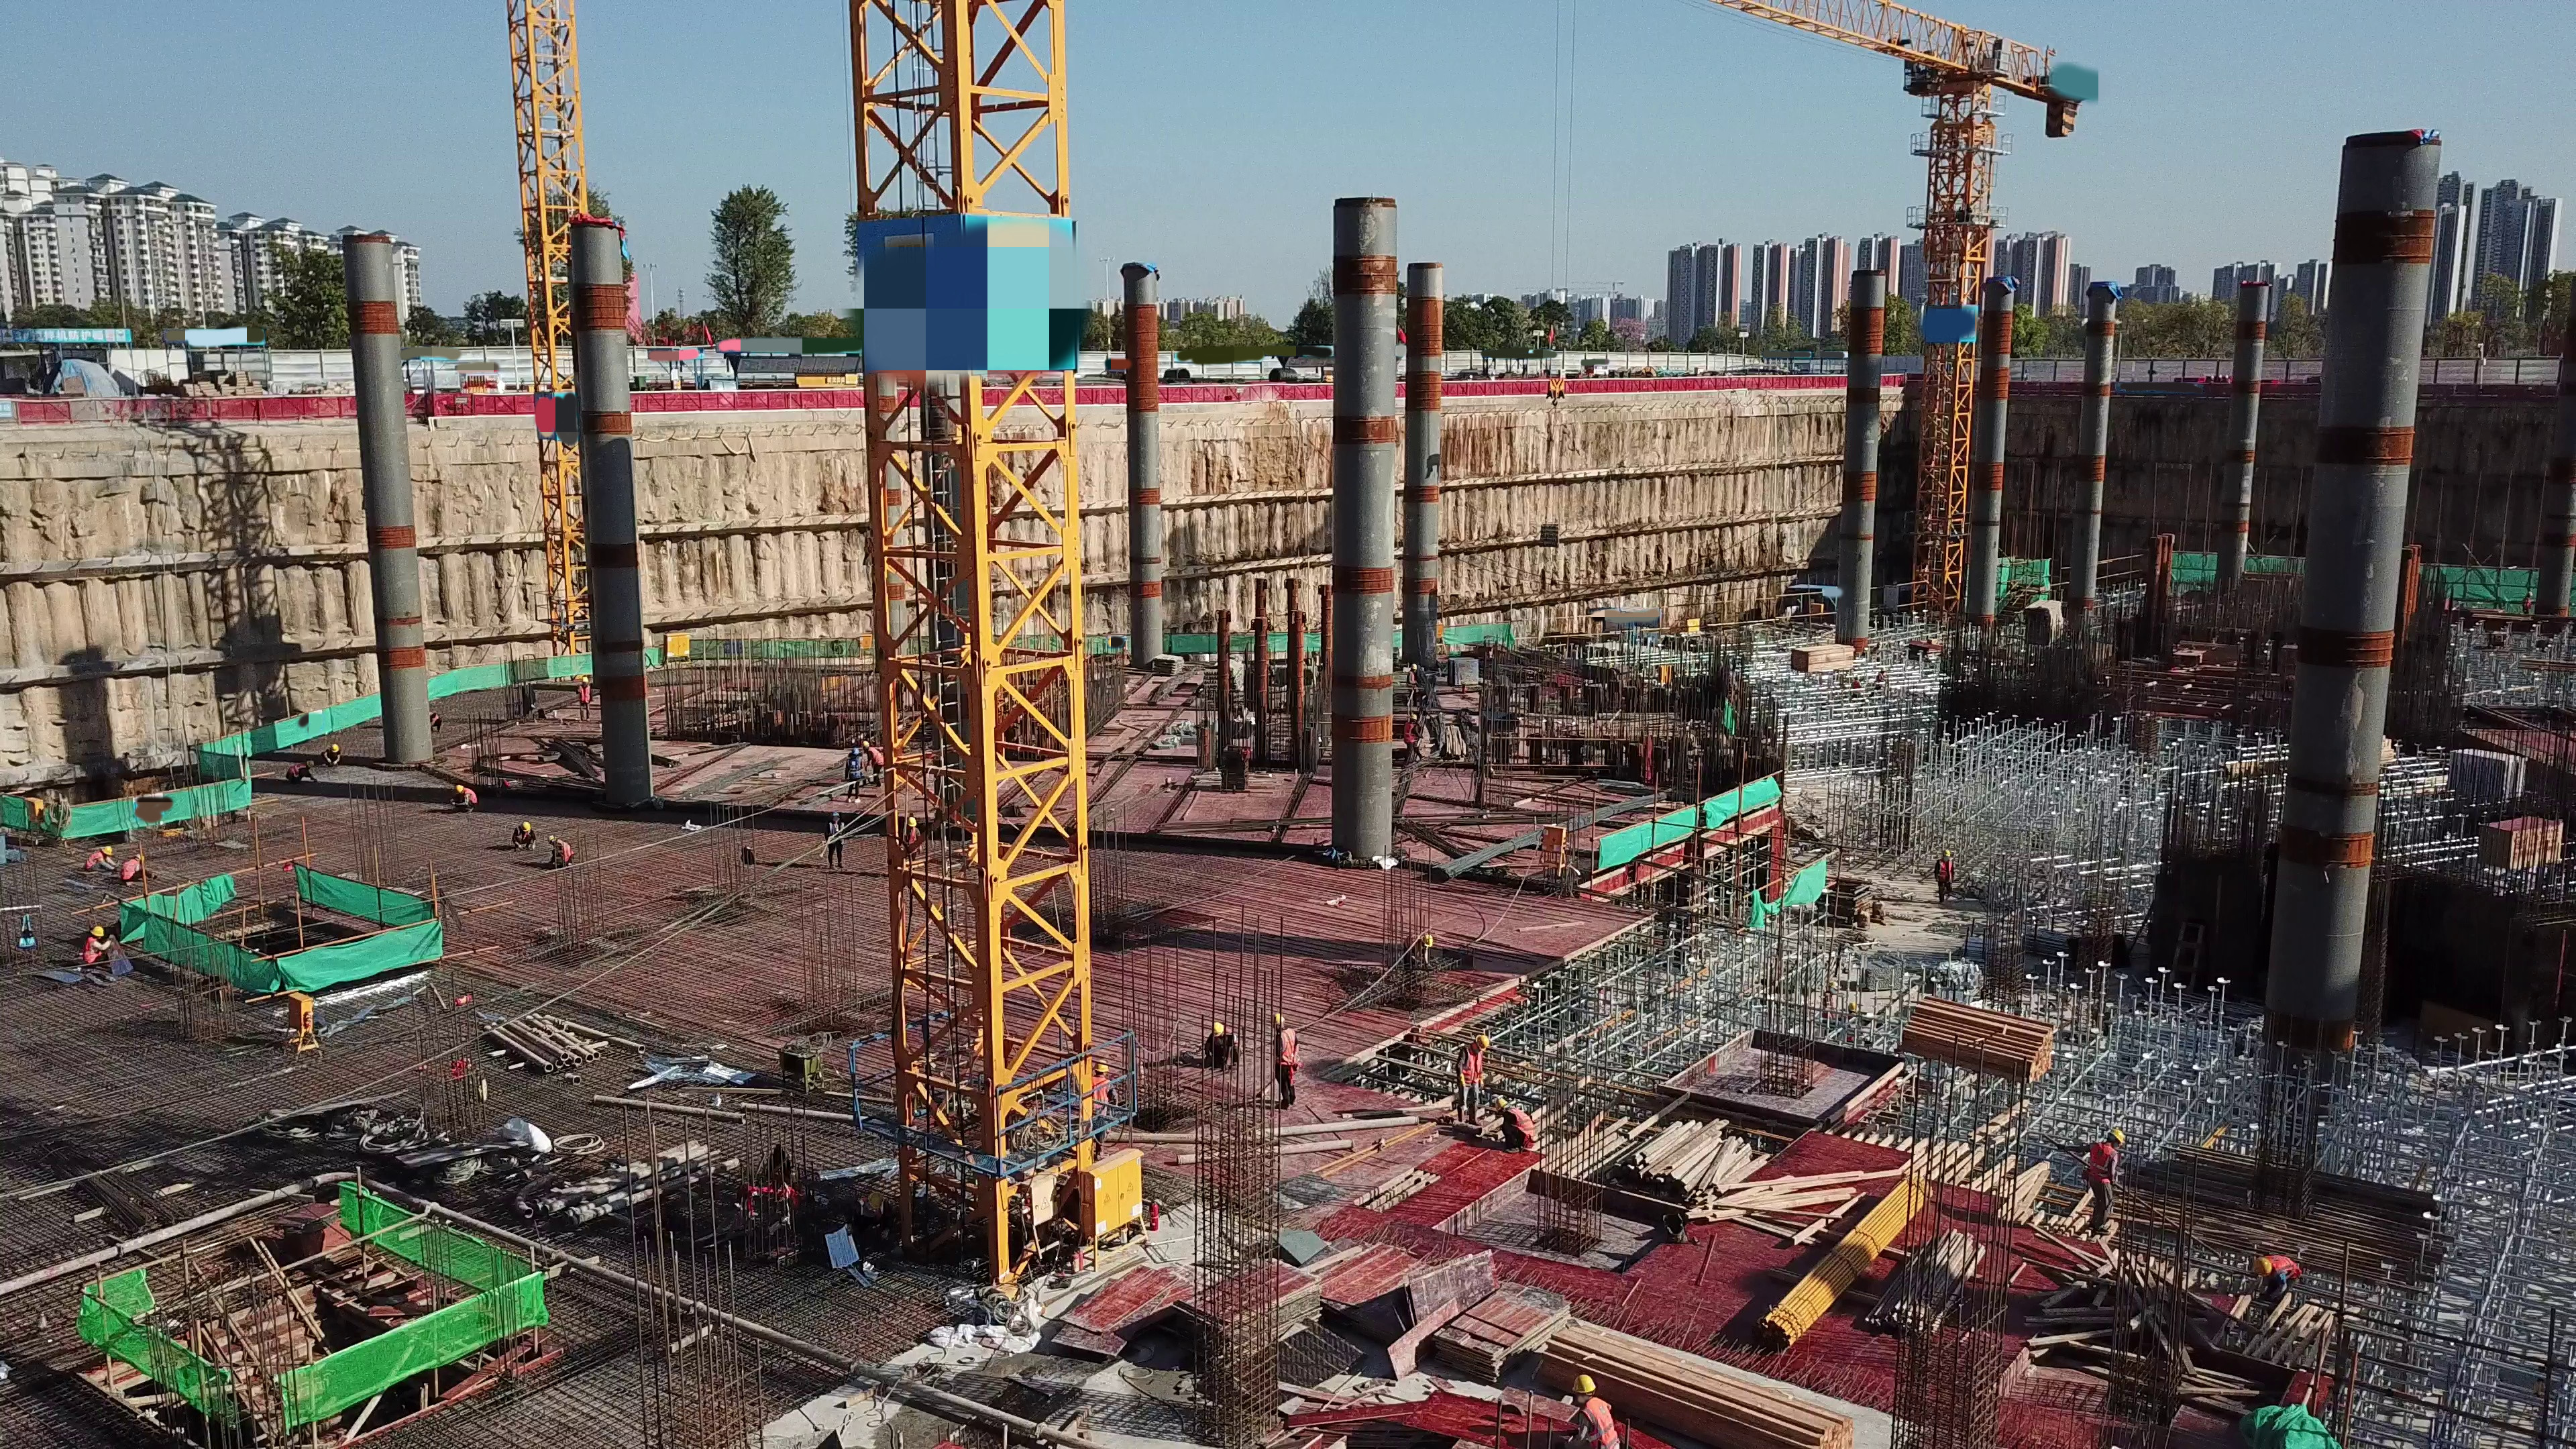board: (1175, 1254, 1320, 1358), (1430, 1283, 1572, 1383), (2479, 813, 2567, 869)
ebox: (1082, 1146, 1146, 1235), (277, 990, 313, 1039), (656, 631, 692, 663)
helmet: (1572, 1374, 1595, 1393), (2253, 1252, 2271, 1275), (1473, 1032, 1489, 1051), (2109, 1128, 2125, 1144), (1093, 1059, 1107, 1072), (1494, 1096, 1506, 1112), (89, 926, 103, 938), (518, 820, 530, 832), (1213, 1022, 1222, 1036), (101, 847, 113, 855), (329, 743, 337, 753), (455, 783, 462, 792)
hook: (1546, 374, 1564, 405)
person: (2085, 1127, 2125, 1237), (1454, 1034, 1493, 1127), (1570, 1374, 1619, 1449), (835, 1193, 896, 1244), (1270, 1013, 1299, 1110), (1093, 1059, 1119, 1158), (1494, 1097, 1536, 1153), (2251, 1253, 2302, 1299), (1203, 1020, 1242, 1071), (81, 925, 114, 970), (1933, 849, 1954, 906), (844, 747, 865, 804), (120, 853, 159, 883), (826, 812, 845, 869), (861, 739, 884, 788), (83, 846, 122, 870), (449, 784, 479, 814), (547, 835, 574, 868), (510, 821, 537, 851), (577, 676, 594, 722), (902, 817, 922, 858), (284, 760, 317, 784), (317, 743, 341, 768)
vest: (1584, 1398, 1618, 1449), (2086, 1143, 2114, 1186), (1461, 1045, 1482, 1084), (1511, 1106, 1535, 1137), (2273, 1254, 2300, 1283), (1281, 1026, 1297, 1069), (1093, 1079, 1106, 1120), (553, 841, 572, 863), (867, 747, 885, 768), (121, 859, 138, 879), (84, 936, 97, 963), (1937, 861, 1953, 881), (86, 851, 102, 870), (288, 762, 305, 778), (847, 759, 859, 781), (462, 788, 476, 804)
wood: (1543, 1320, 1851, 1449), (1866, 1230, 1987, 1332), (1898, 998, 2051, 1080), (1614, 1120, 1762, 1197), (1789, 643, 1854, 675)
